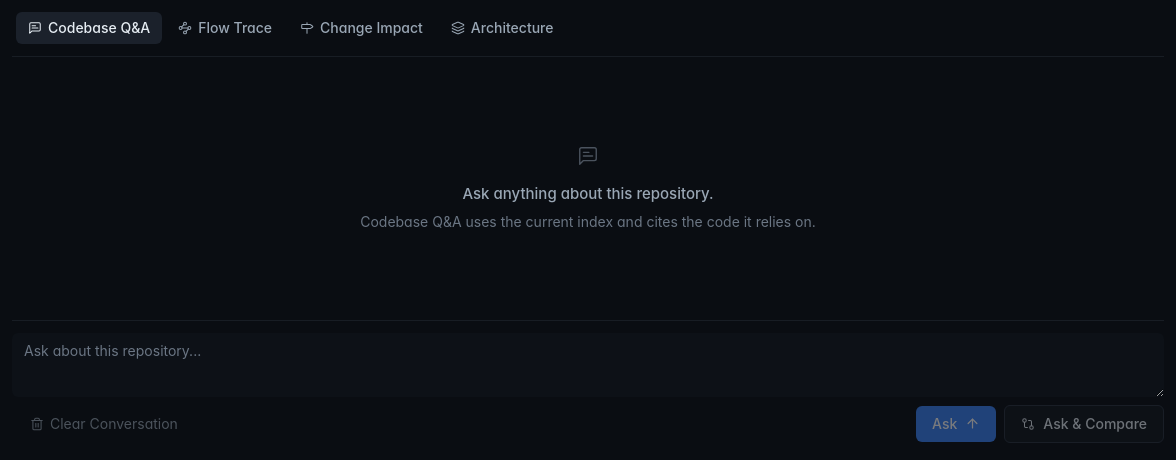
Test: analysis workspace › renders a grounded Ask response
The width and height of the screenshot is (1176, 460).
Type "How does login work?" into the text box named "Question" at (588, 364), box [12,332,1164,396]
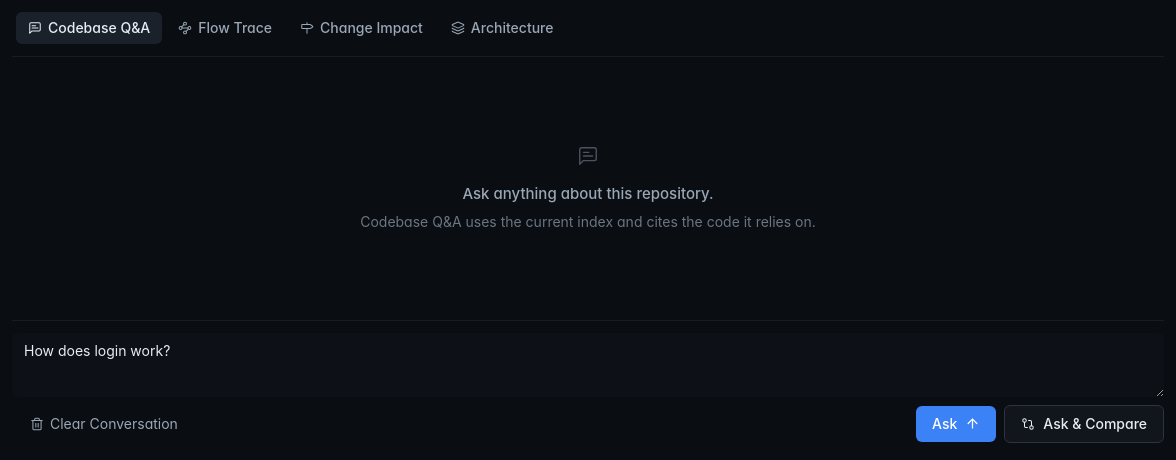
Click the button "Ask" at (956, 424), box [916,406,996,442]
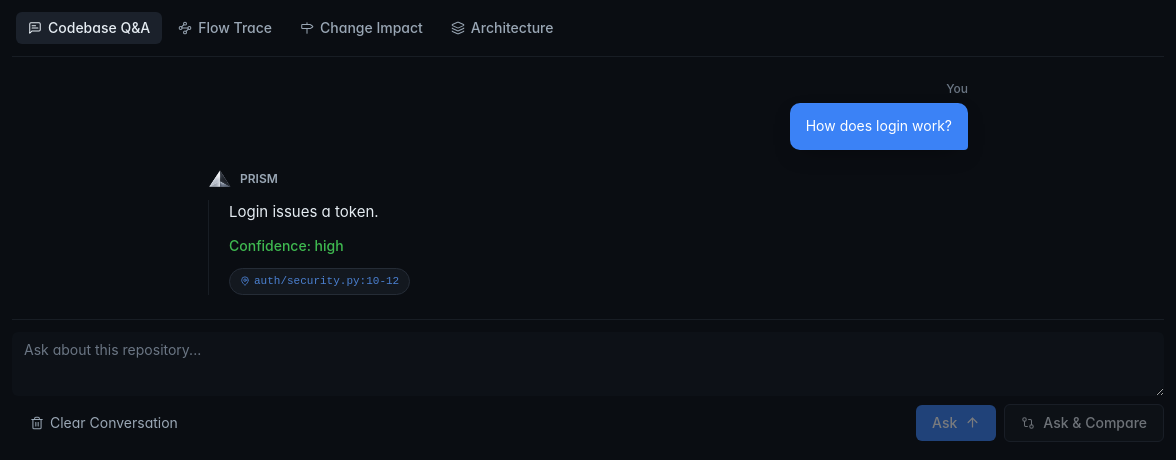
Result: the text "Login issues a token." is shown at [229,202,379,221]
Result: the text "Confidence: high" is shown at [229,237,344,254]
